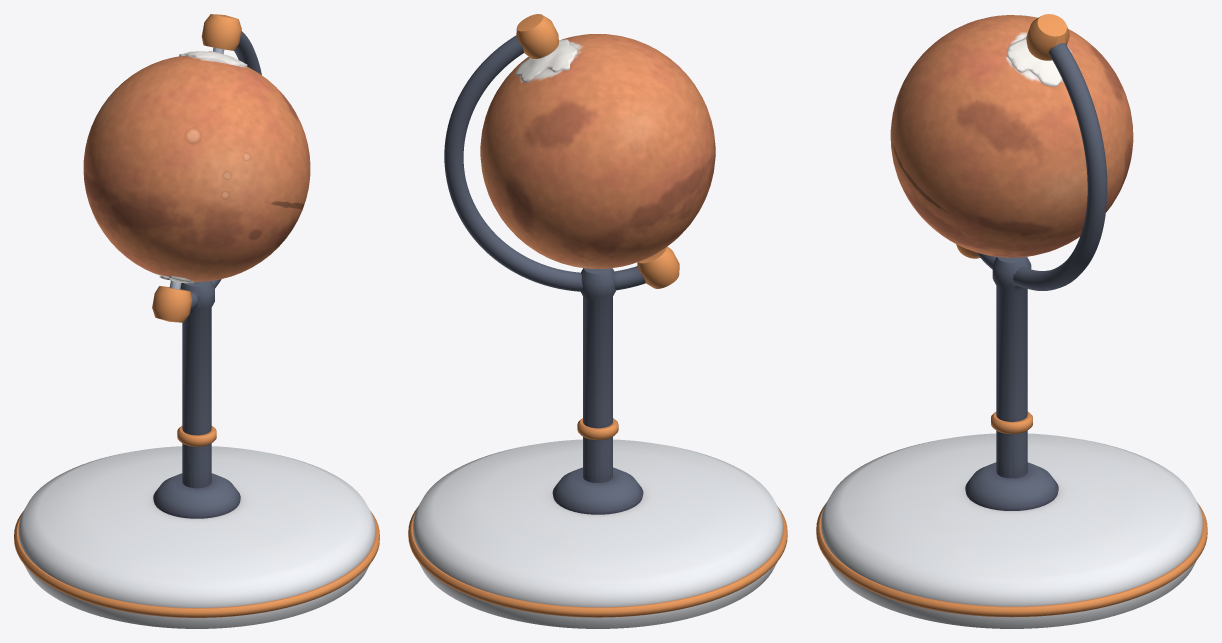
File: mars.glb
The picture shows the model from 3 angles, left to right: view 1: azimuth 30°, elevation 25°; view 2: azimuth 150°, elevation 25°; view 3: azimuth 270°, elevation 25°; orthographic projection. The views are drawn at different scales.
Parts seen in each view (by area): view 1: mars_body, mars_sphere; view 2: mars_body, mars_sphere; view 3: mars_body, mars_sphere.
Part boxes in pixels (x1=…): mars_body: x1=14, y1=14, x2=379, y2=628; mars_sphere: x1=83, y1=51, x2=310, y2=283; mars_body: x1=408, y1=14, x2=787, y2=628; mars_sphere: x1=480, y1=34, x2=715, y2=268; mars_body: x1=816, y1=14, x2=1207, y2=628; mars_sphere: x1=890, y1=15, x2=1133, y2=257.
Size of the model in its own units: 0.2256 by 0.3584 by 0.2256.
Materials: 2 (2 with a texture image).
